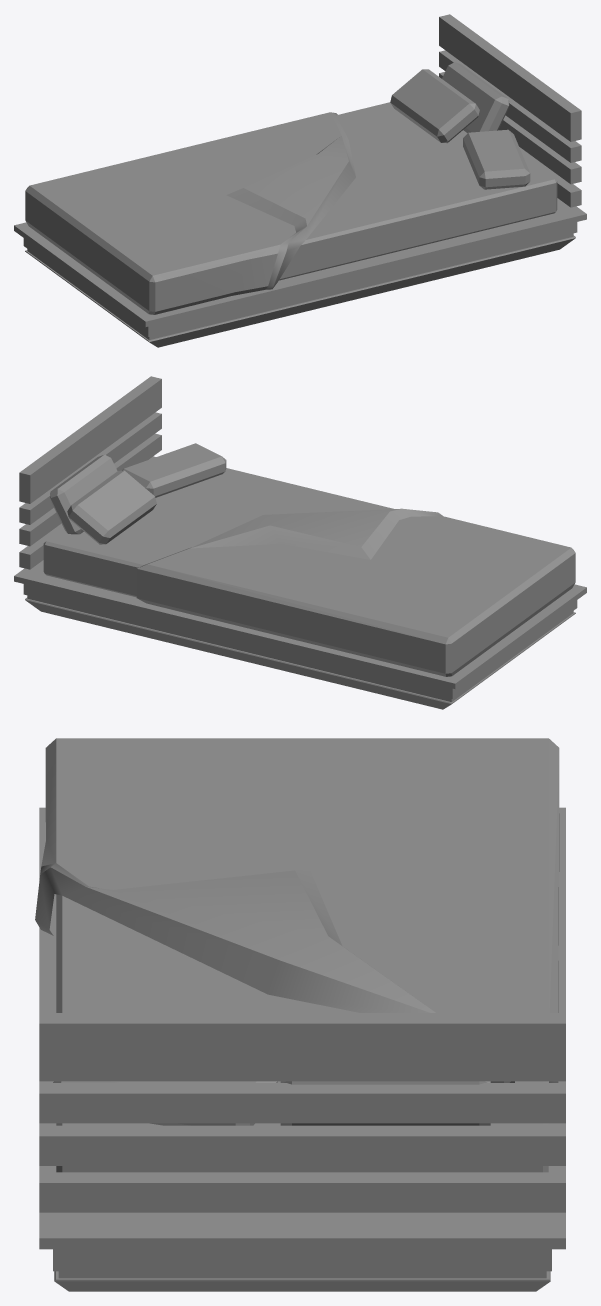
File: bed_A.FBX
3 renders of one model, top to bottom at view 1: azimuth 30°, elevation 25°; view 2: azimuth 150°, elevation 25°; view 3: azimuth 270°, elevation 25°, orthographic. The views are drawn at different scales.
Parts seen in each view (by area): view 1: bed_A; view 2: bed_A; view 3: bed_A.
Part boxes in pixels (x1=…): bed_A: x1=14, y1=14, x2=586, y2=347; bed_A: x1=14, y1=376, x2=586, y2=709; bed_A: x1=35, y1=738, x2=565, y2=1291.
Bounding box in the file's own units: 131 × 39.86 × 68.04.
